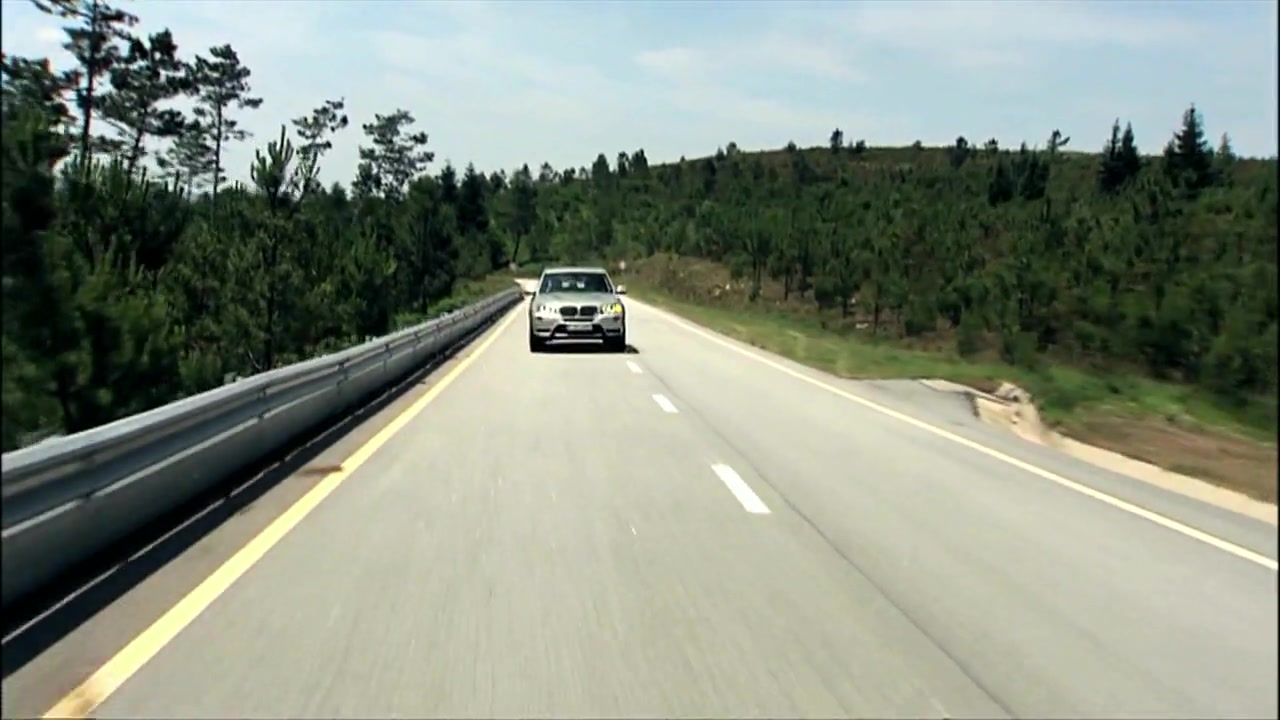car: (523, 265, 630, 354)
